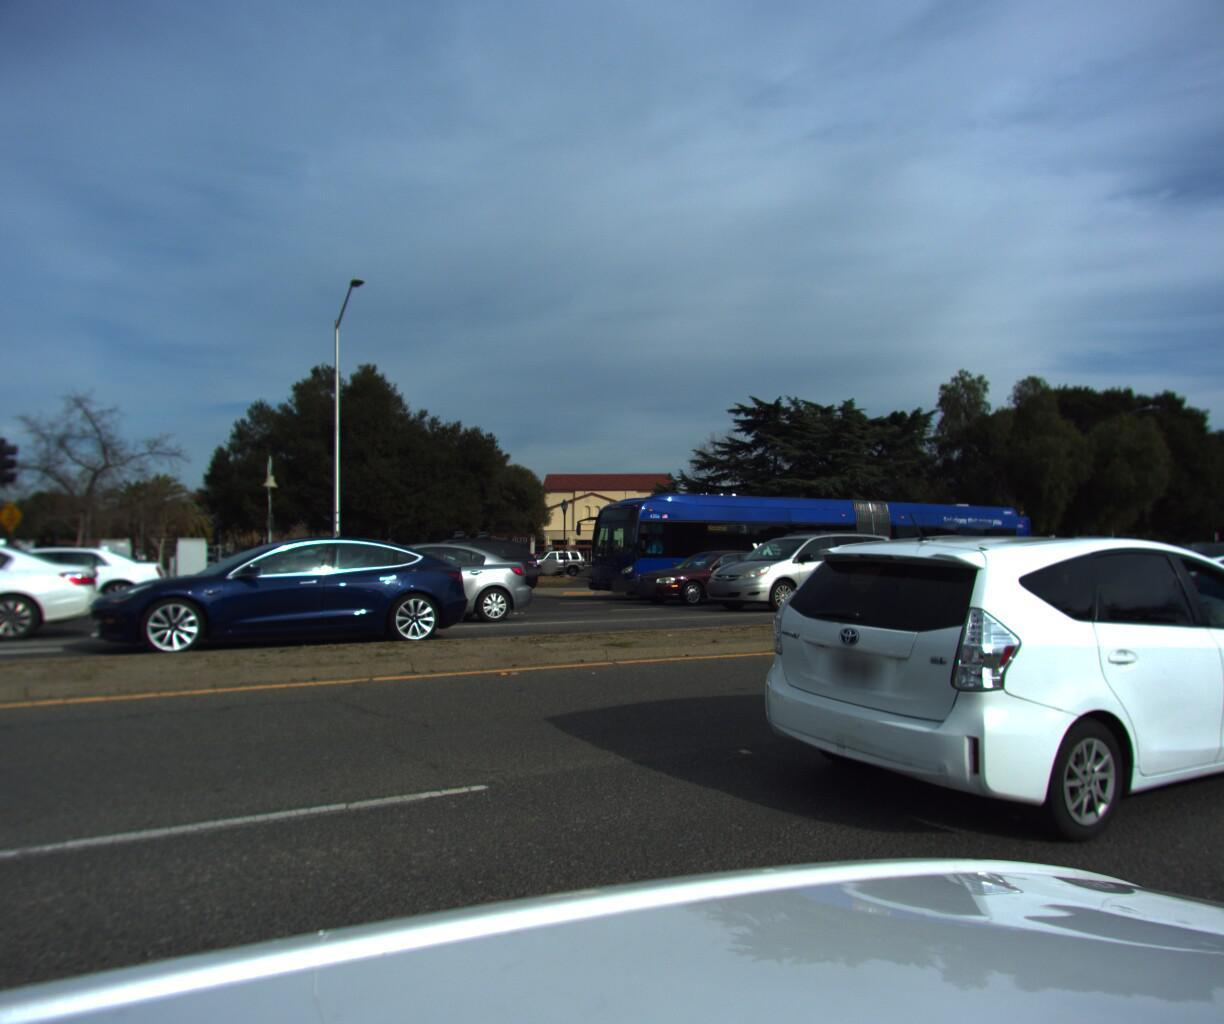bus: (564, 485, 1041, 604)
car: (734, 518, 1224, 890), (100, 530, 486, 658), (244, 533, 568, 639), (681, 520, 923, 617), (0, 537, 190, 637), (0, 527, 122, 668), (340, 524, 553, 600), (948, 526, 1143, 601), (618, 544, 809, 606), (1164, 540, 1224, 653), (1128, 530, 1224, 593), (0, 531, 45, 641)
